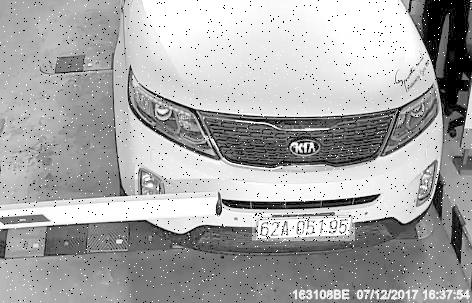License-plate: (253, 214, 356, 242)
